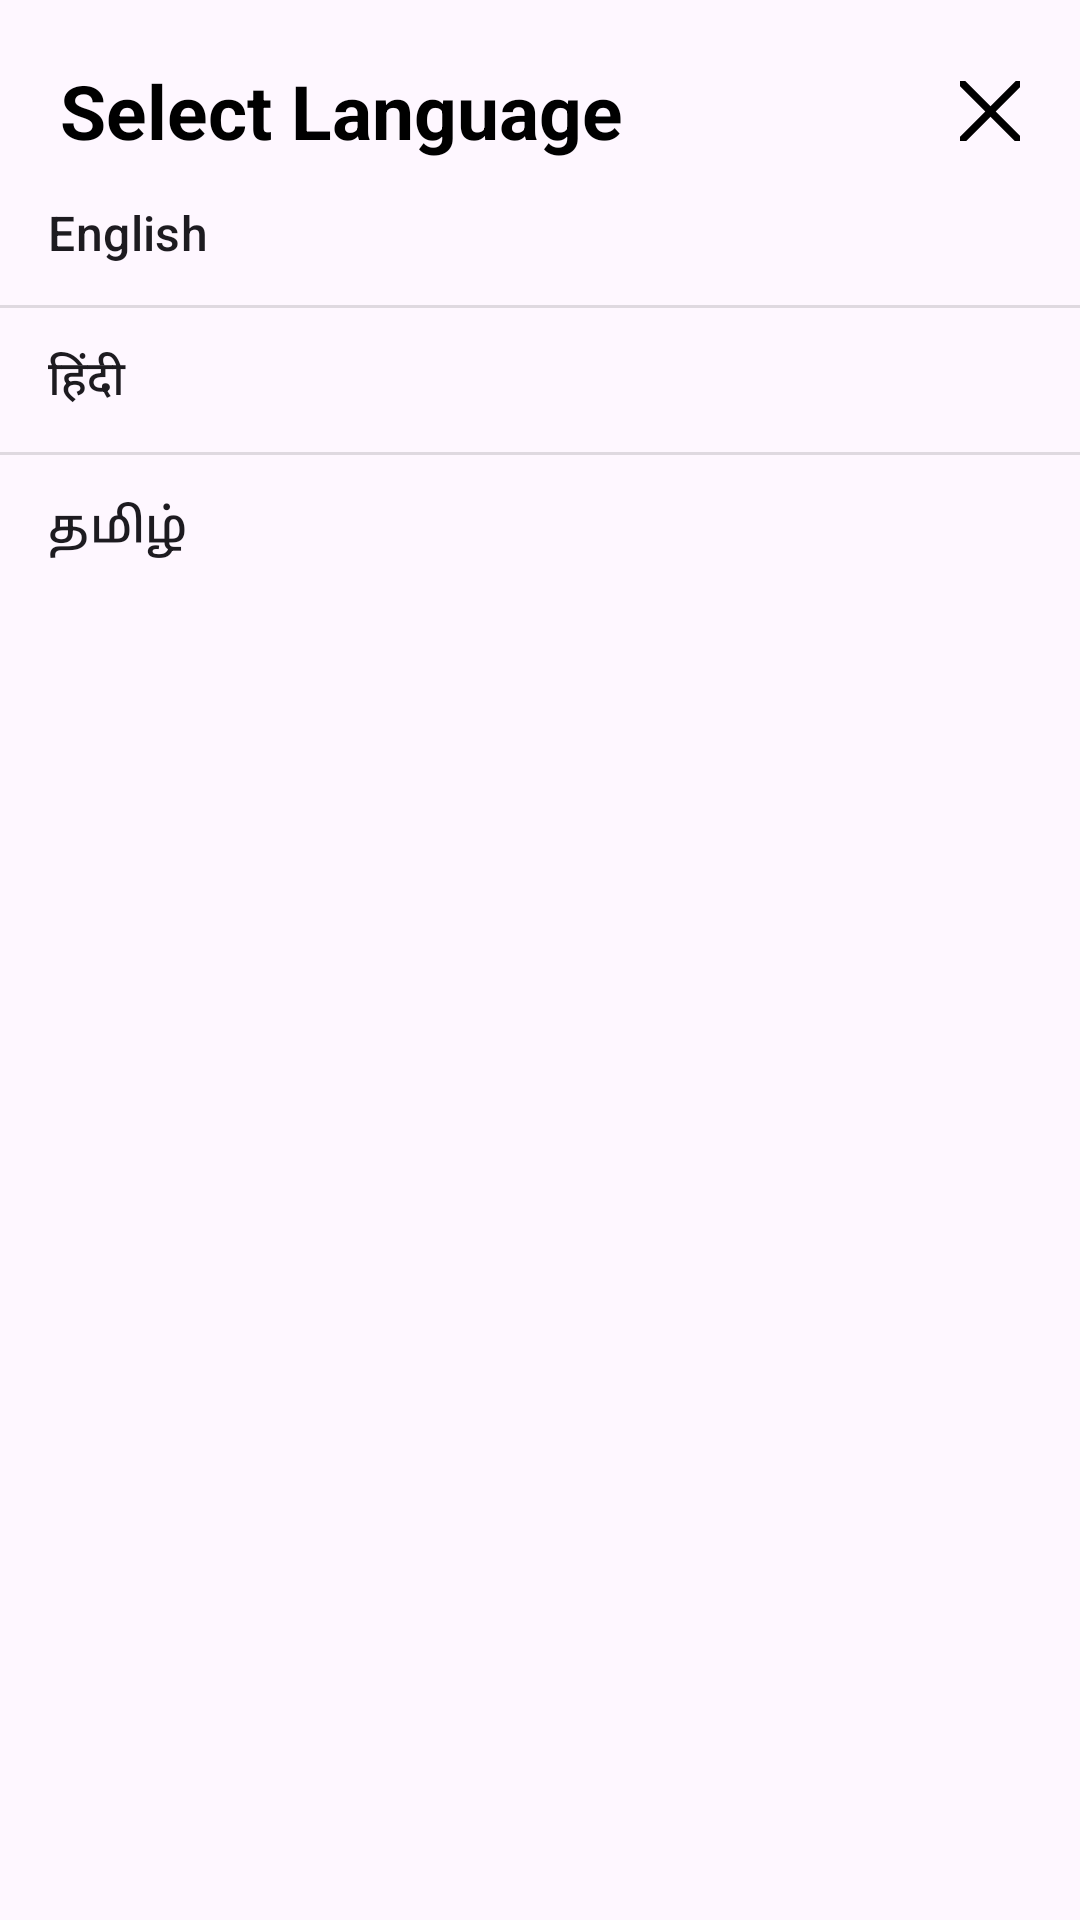

Icons on this 1080 × 1920 Android screen, each with its box as (x1, y1, x2, y2):
close line: (960, 81, 1020, 141)
